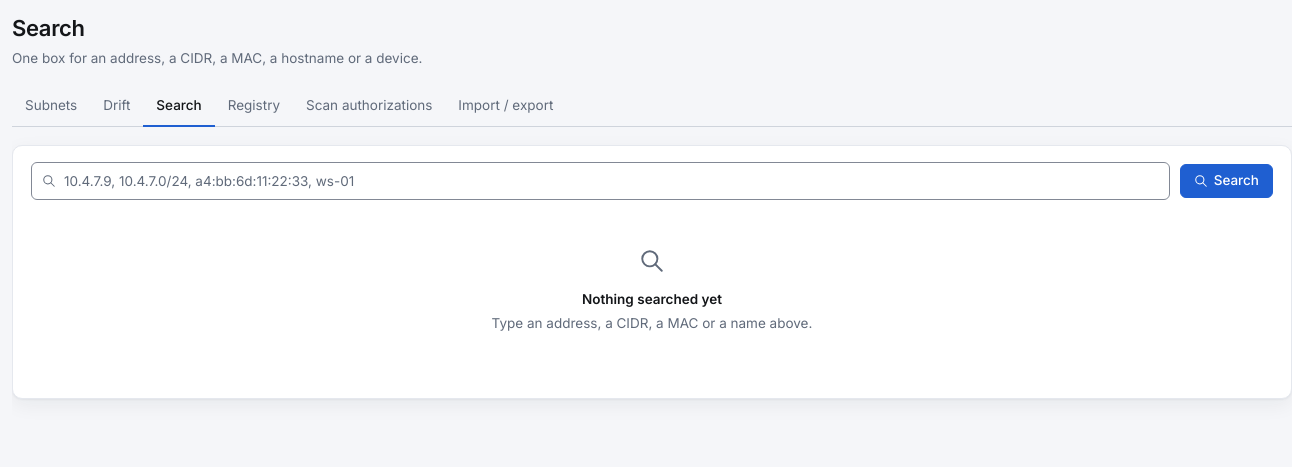
SearchPage resting state › stands down the moment a query is submitted, and does not come back with the results
The width and height of the screenshot is (1292, 467).
expect the heading "Nothing searched yet" is shown: met, box [582,291,722,307]
Type "10.4.7.9" into the field named "Search addresses, subnets and devices" at x=600, y=181, box [31,162,1170,200]
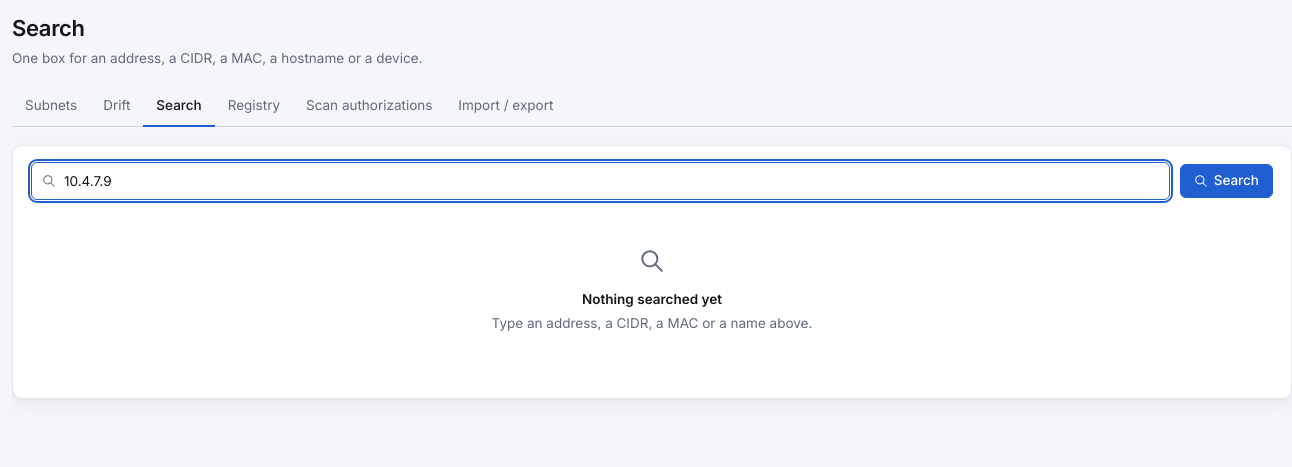
Click the button "Search" at x=1226, y=181, box [1180,164,1273,198]
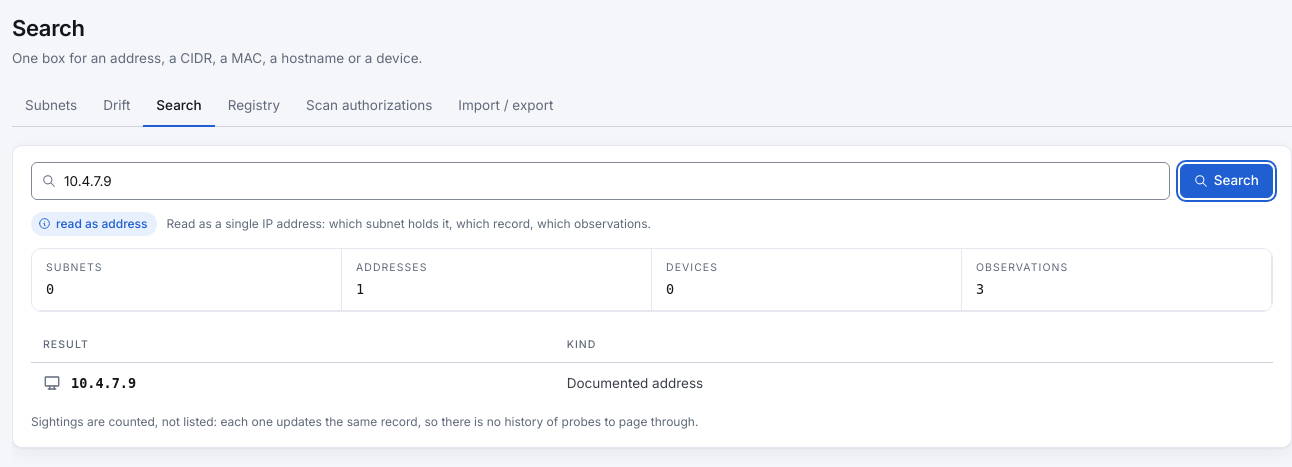
expect the text "10.4.7.9" is shown: met, box [71,372,136,393]
expect the heading "Nothing searched yet" is gone: met
